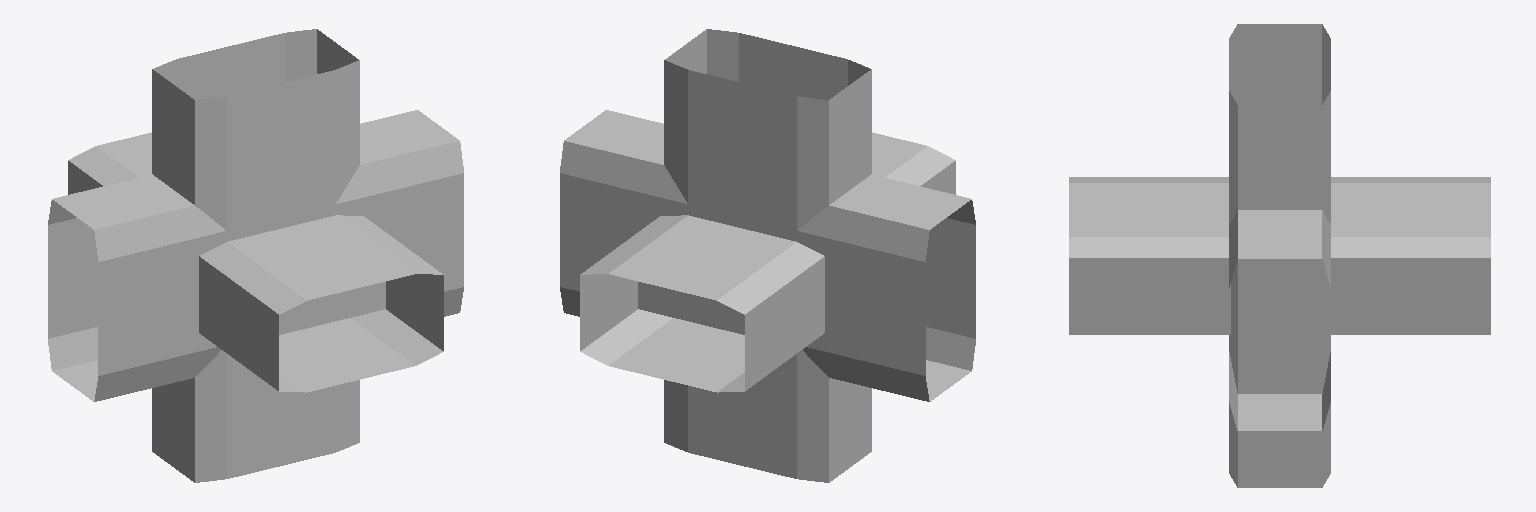
File: EnergyCrystals.obj
3 views of the same model, side by side, from view 1: azimuth 30°, elevation 25°; view 2: azimuth 150°, elevation 25°; view 3: azimuth 270°, elevation 25° (orthographic).
Parts seen in each view (by area): view 1: BuswayConnectionB, BuswayStrightConnectionC, BuswaySingleHorzEndC, BuswayJunctionConnectionEndC, BuswayJunctionConnectionEndA, BuswaySingleHorzEndB, BuswayConnectionD, BuswayConnectionF, BuswaySingleVertEndB, BuswaySingleVertEndA, BuswaySingleHorzEndA, BuswaySingleHorzEndD (+4 smaller); view 2: BuswayConnectionB, BuswayJunctionConnectionEndA, BuswaySingleVertEndB, BuswayJunctionConnectionEndC, BuswaySingleHorzEndB, BuswaySingleHorzEndC, BuswayConnectionE, BuswayStrightConnectionC, BuswaySingleHorzEndD, BuswayStrightConnectionB, BuswaySingleVertEndA, BuswayConnectionD (+3 smaller); view 3: BuswayStrightConnectionC, BuswayConnectionB, BuswayConnectionE, BuswayJunctionConnectionEndC, BuswaySingleHorzEndD, BuswaySingleVertEndB, BuswaySingleVertEndA, BuswayConnectionF, BuswayJunctionConnectionEndA, BuswaySingleHorzEndA, BuswaySingleHorzEndB, BuswayConnectionD.
Boxes of the visible parts, x1=… form: BuswayConnectionB: x1=152, y1=33, x2=359, y2=229; BuswayStrightConnectionC: x1=68, y1=133, x2=443, y2=389; BuswaySingleHorzEndC: x1=48, y1=200, x2=335, y2=401; BuswayJunctionConnectionEndC: x1=48, y1=160, x2=382, y2=400; BuswayJunctionConnectionEndA: x1=152, y1=143, x2=359, y2=482; BuswaySingleHorzEndB: x1=152, y1=29, x2=358, y2=238; BuswayConnectionD: x1=336, y1=110, x2=463, y2=289; BuswayConnectionF: x1=199, y1=215, x2=443, y2=390; BuswaySingleVertEndB: x1=68, y1=137, x2=385, y2=348; BuswaySingleVertEndA: x1=233, y1=215, x2=443, y2=392; BuswaySingleHorzEndA: x1=227, y1=205, x2=359, y2=478; BuswaySingleHorzEndD: x1=227, y1=111, x2=463, y2=289; BuswayConnectionB: x1=664, y1=35, x2=871, y2=230; BuswayJunctionConnectionEndA: x1=664, y1=142, x2=871, y2=482; BuswaySingleVertEndB: x1=580, y1=215, x2=824, y2=392; BuswayJunctionConnectionEndC: x1=641, y1=144, x2=975, y2=401; BuswaySingleHorzEndB: x1=665, y1=29, x2=871, y2=238; BuswaySingleHorzEndC: x1=688, y1=200, x2=975, y2=401; BuswayConnectionE: x1=580, y1=215, x2=824, y2=391; BuswayStrightConnectionC: x1=581, y1=132, x2=955, y2=391; BuswaySingleHorzEndD: x1=560, y1=110, x2=796, y2=291; BuswayStrightConnectionB: x1=560, y1=174, x2=975, y2=373; BuswaySingleVertEndA: x1=638, y1=133, x2=925, y2=347; BuswayConnectionD: x1=560, y1=111, x2=687, y2=290; BuswayStrightConnectionC: x1=1069, y1=177, x2=1490, y2=334; BuswayConnectionB: x1=1229, y1=24, x2=1330, y2=223; BuswayConnectionE: x1=1329, y1=177, x2=1490, y2=334; BuswayJunctionConnectionEndC: x1=1229, y1=216, x2=1330, y2=393; BuswaySingleHorzEndD: x1=1229, y1=210, x2=1330, y2=430; BuswaySingleVertEndB: x1=1185, y1=177, x2=1490, y2=334; BuswaySingleVertEndA: x1=1069, y1=183, x2=1374, y2=334; BuswayConnectionF: x1=1069, y1=177, x2=1230, y2=334; BuswayJunctionConnectionEndA: x1=1229, y1=185, x2=1330, y2=487; BuswaySingleHorzEndA: x1=1229, y1=403, x2=1330, y2=487; BuswaySingleHorzEndB: x1=1229, y1=24, x2=1330, y2=104; BuswayConnectionD: x1=1229, y1=210, x2=1330, y2=420.
Size of the model in its own units: 1 by 1 by 1.